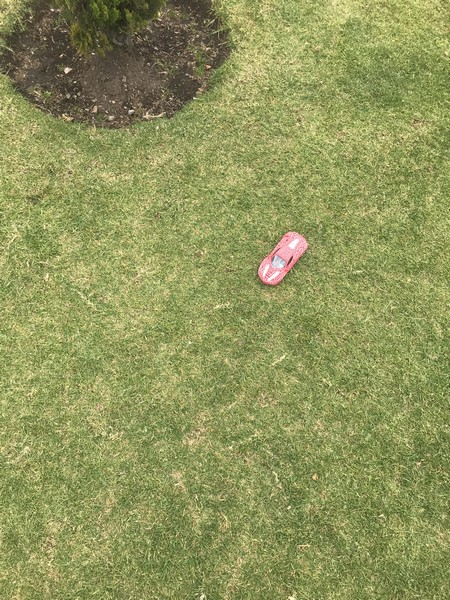RC: (254, 229, 310, 287)
